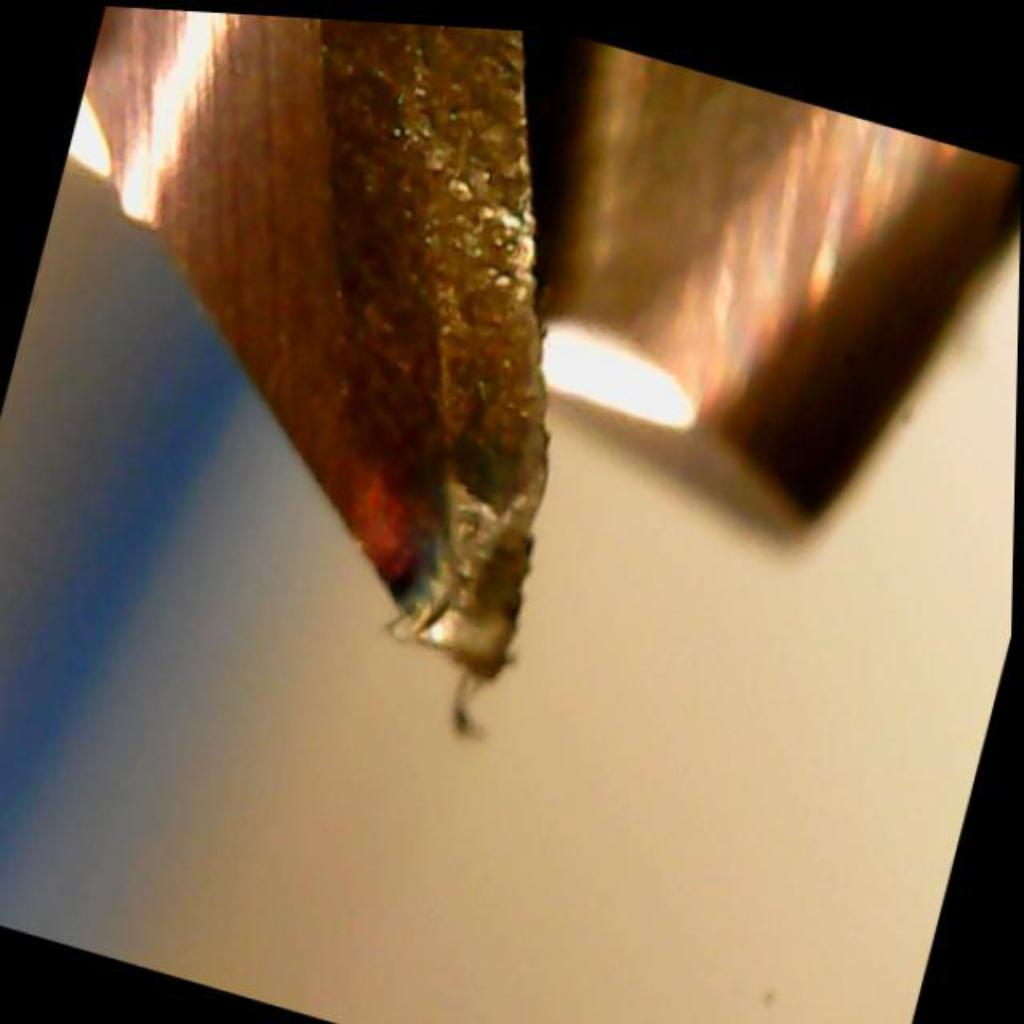Tool-wear-class-2: (276, 63, 676, 721)
